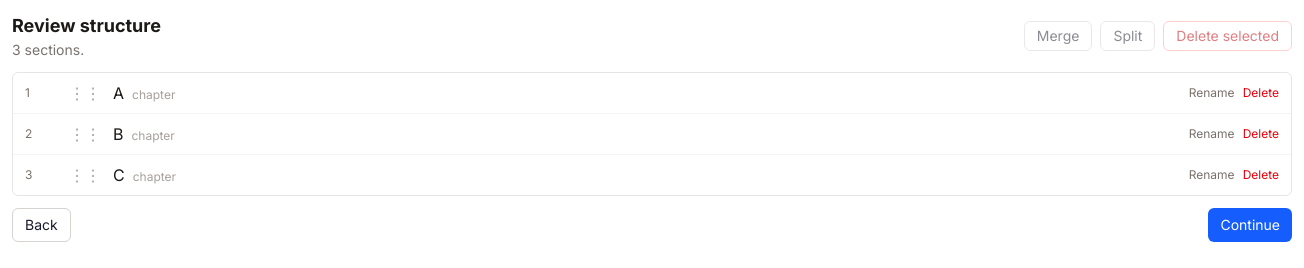
Test case: StructureEditor › shows undo banner after delete
Click the button with test id "delete-1".
click(1261, 93)  # box top-left (1243, 85), bottom-right (1279, 101)
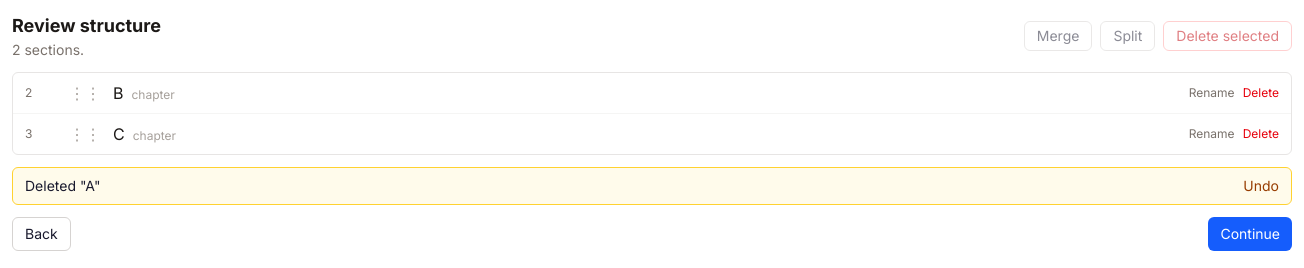
Expected: the element with test id "undo-stack" is shown, top-left (12, 167), bottom-right (1292, 205)
Expected: the text "Undo" is shown, top-left (1243, 176), bottom-right (1279, 196)
